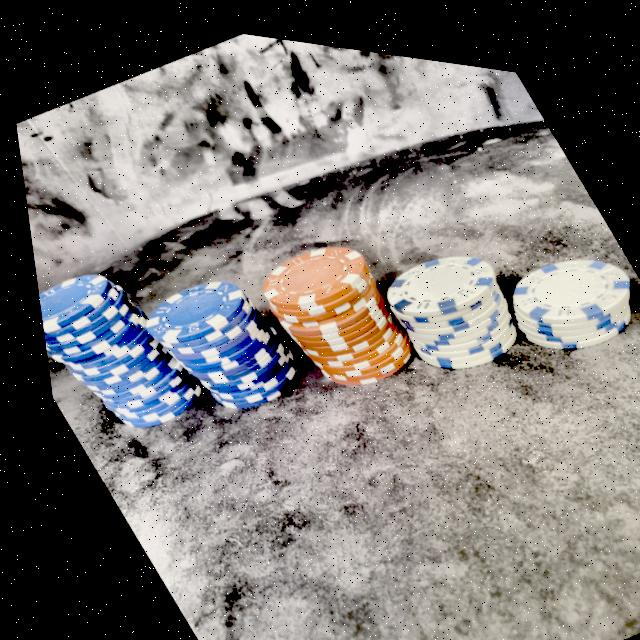Chip: (222, 191, 434, 419), (25, 236, 210, 476), (346, 198, 541, 396), (115, 246, 307, 439), (465, 192, 640, 379)
